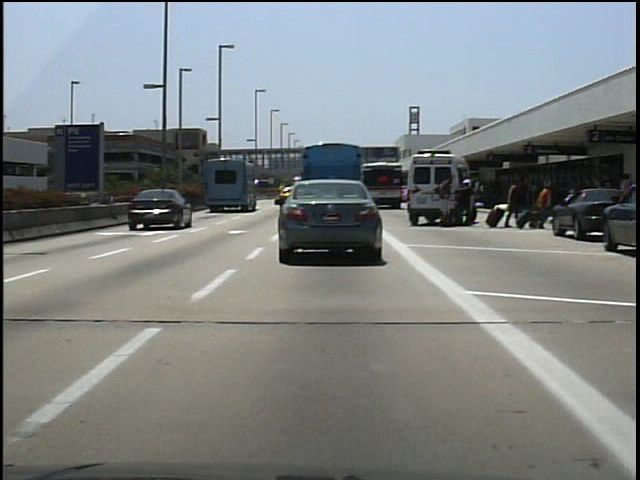person: (502, 176, 526, 232), (433, 170, 456, 228), (453, 175, 477, 228), (533, 179, 556, 232)
